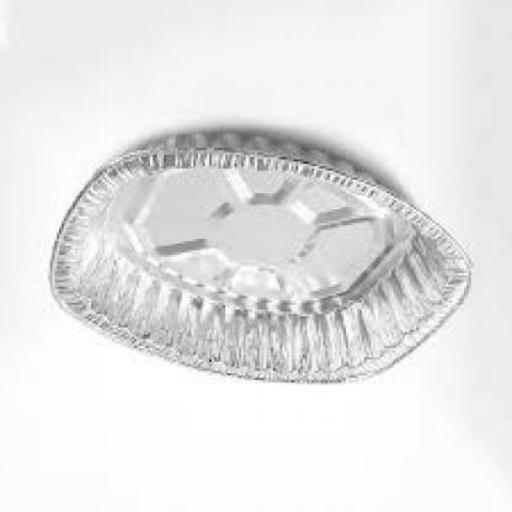metal: (46, 136, 472, 387)
